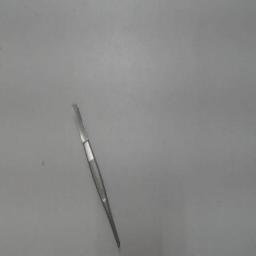Gillies Toothed Dissector: (68, 94, 126, 252)
